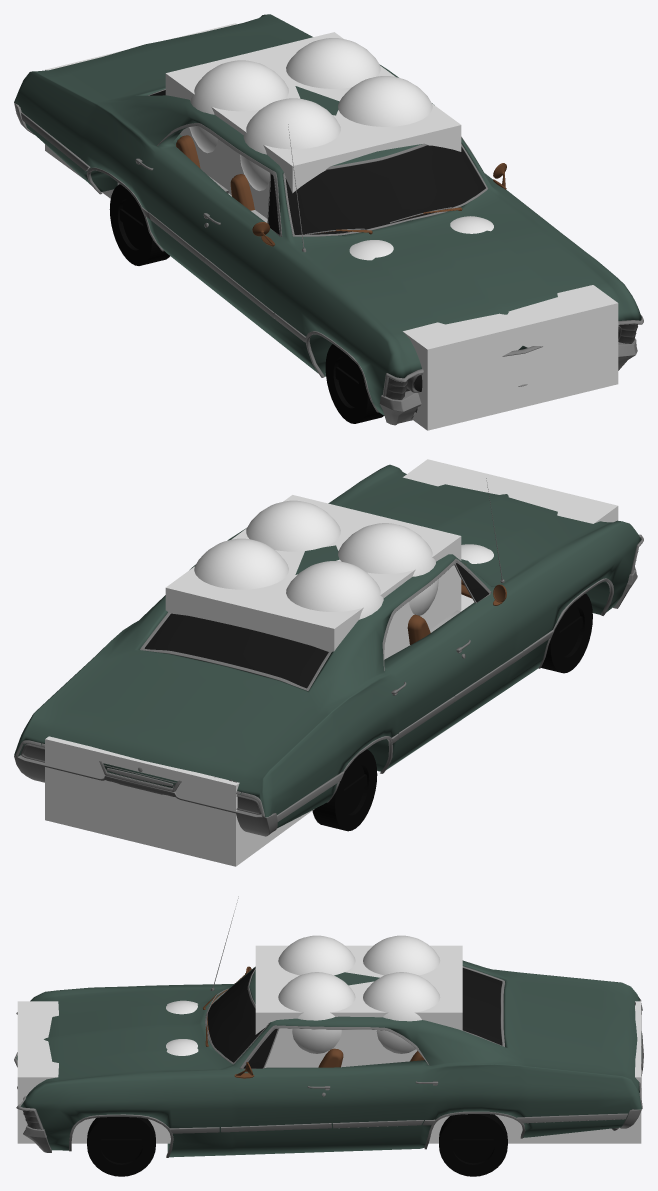
The model's file is car.glb.
3 renders of one model, top to bottom at view 1: azimuth 30°, elevation 25°; view 2: azimuth 150°, elevation 25°; view 3: azimuth 270°, elevation 25°, orthographic. The views are drawn at different scales.
Parts seen in each view (by area): view 1: CarUP_LP, Cube.006, Cube.002, FrontGlass_LP, Sphere.002, Sphere.007, Sphere.001, Sphere.004, wheel, wheel_fr, FrontBump_LP, FrontChromeglass_LP (+6 smaller); view 2: CarUP_LP, Cube.006, Cube.002, BackGlass_LP, Sphere.002, Sphere.007, Sphere.004, Sphere.001, wheel, wheel_fr, Backbump_LP, ChromeBackGlass_LP (+3 smaller); view 3: CarUP_LP, Cube.002, Cube.006, Sphere.001, Cylinder.001, wheel_fl, Sphere.004, FrontGlass_LP, BackGlass_LP, Sphere.002, Sphere.007, Sidechrome5_LP (+9 smaller).
Part boxes in pixels (x1,y1,x2,y2): CarUP_LP: (14,14,641,415); Cube.006: (45,23,618,430); Cube.002: (165,32,461,218); FrontGlass_LP: (285,145,485,234); Sphere.002: (240,98,340,190); Sphere.007: (189,60,288,153); Sphere.001: (338,76,432,126); Sphere.004: (286,38,380,88); wheel: (109,184,169,265); wheel_fr: (325,344,383,423); FrontBump_LP: (379,338,637,425); FrontChromeglass_LP: (283,143,487,236); CarUP_LP: (14,464,641,828); Cube.006: (45,459,618,866); Cube.002: (165,495,461,659); BackGlass_LP: (144,613,328,688); Sphere.002: (338,523,438,615); Sphere.007: (286,561,383,619); Sphere.004: (194,538,288,589); Sphere.001: (246,500,340,551); wheel: (312,749,377,831); wheel_fr: (541,593,592,673); Backbump_LP: (14,755,277,836); ChromeBackGlass_LP: (140,612,331,690); CarUP_LP: (16,960,641,1157); Cube.002: (255,945,462,1067); Cube.006: (17,1001,641,1143); Sphere.001: (278,972,355,1053); Cylinder.001: (439,1114,507,1176); wheel_fl: (87,1117,155,1176); Sphere.004: (363,972,440,1053); FrontGlass_LP: (207,967,264,1062); BackGlass_LP: (462,968,505,1045); Sphere.002: (278,935,355,975); Sphere.007: (363,935,440,975); Sidechrome5_LP: (517,1113,627,1123).
Size of the model in its own units: 1.67 by 1.49 by 4.29.
Materials: 7 (1 with a texture image).
